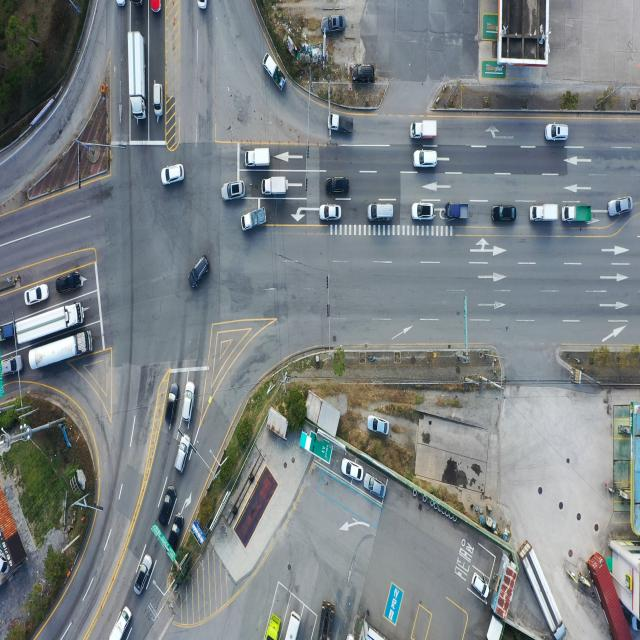car: (168, 510, 188, 551), (159, 486, 178, 528), (134, 553, 153, 595), (188, 256, 208, 291), (174, 435, 190, 475), (57, 272, 83, 295), (365, 476, 387, 502), (182, 381, 195, 423), (166, 382, 179, 423), (369, 203, 395, 223), (26, 284, 49, 306), (342, 459, 364, 482), (413, 149, 438, 169), (0, 355, 23, 376), (608, 198, 632, 218), (321, 16, 346, 35), (366, 416, 389, 436), (223, 181, 246, 201), (492, 205, 516, 224), (473, 575, 490, 601), (163, 166, 185, 186), (352, 64, 374, 83), (412, 204, 435, 222), (327, 180, 350, 198), (547, 126, 570, 142), (321, 205, 342, 222), (153, 83, 162, 118), (150, 0, 161, 13), (198, 0, 208, 11), (116, 0, 126, 7)
medium_truck: (522, 544, 568, 640), (11, 305, 82, 347), (28, 329, 94, 373), (128, 29, 148, 119), (320, 601, 338, 640), (129, 0, 144, 9)
small_bus: (281, 611, 301, 640)
small_truck: (264, 54, 286, 92), (110, 604, 132, 640), (563, 205, 594, 225), (242, 208, 266, 232), (329, 112, 355, 134), (244, 147, 271, 168), (530, 204, 558, 224), (262, 176, 288, 196), (412, 121, 438, 141), (443, 200, 468, 217), (266, 615, 282, 640), (0, 323, 17, 344)
